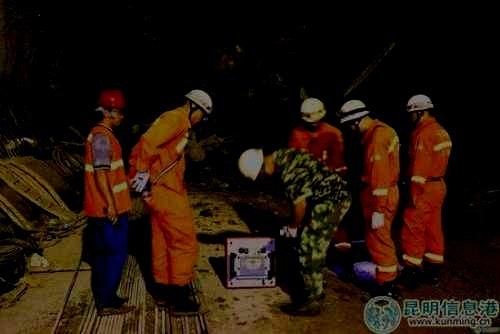helmet: (95, 89, 125, 130), (239, 148, 274, 183), (181, 90, 212, 124), (339, 100, 369, 135), (405, 95, 434, 126), (300, 97, 326, 130)
